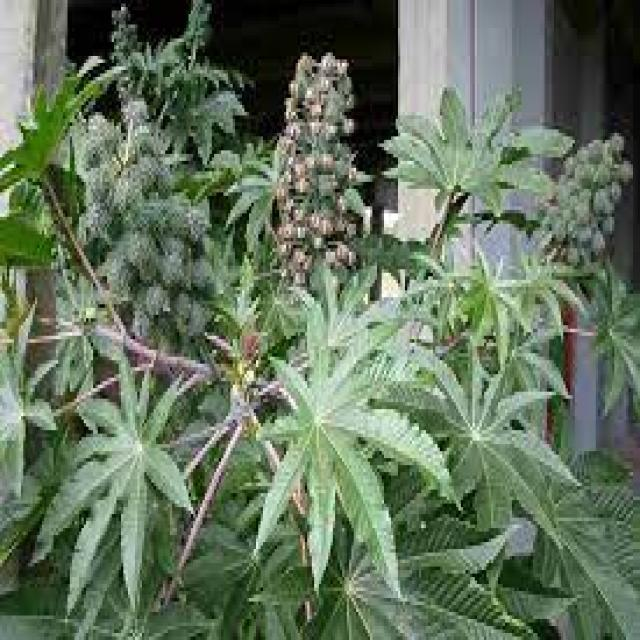Castor Oil Plant: (38, 60, 366, 358), (379, 305, 640, 640), (372, 85, 616, 339), (234, 284, 434, 574), (38, 348, 206, 596)
